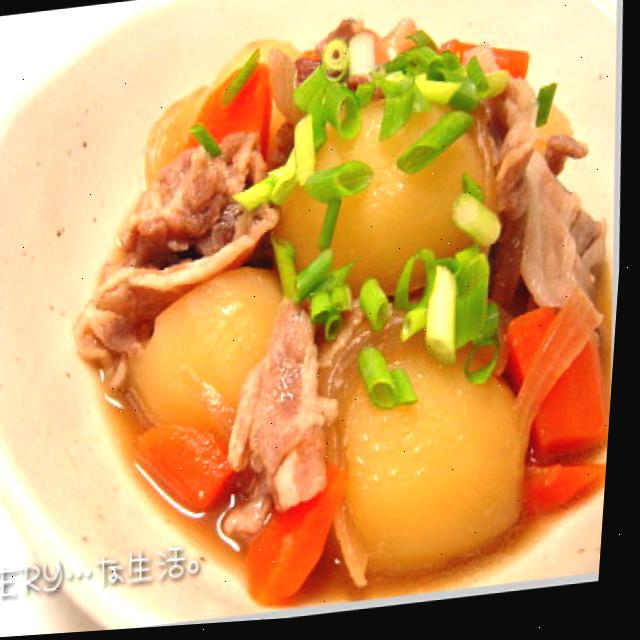牛肉菜式: (50, 0, 623, 551)
